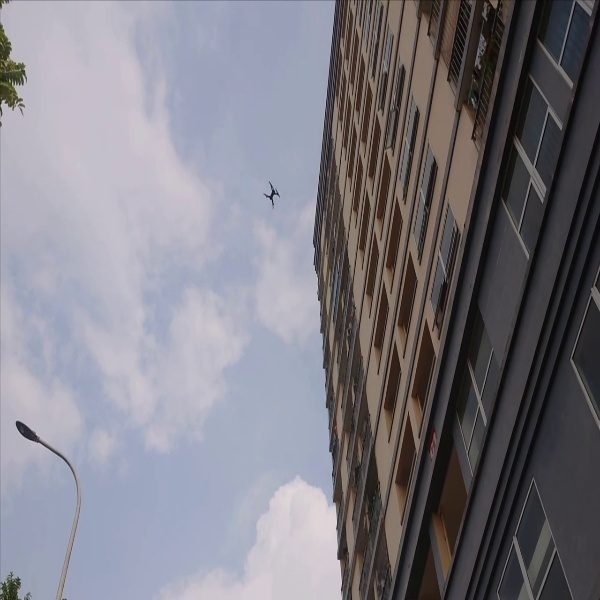drone: (260, 178, 287, 213)
